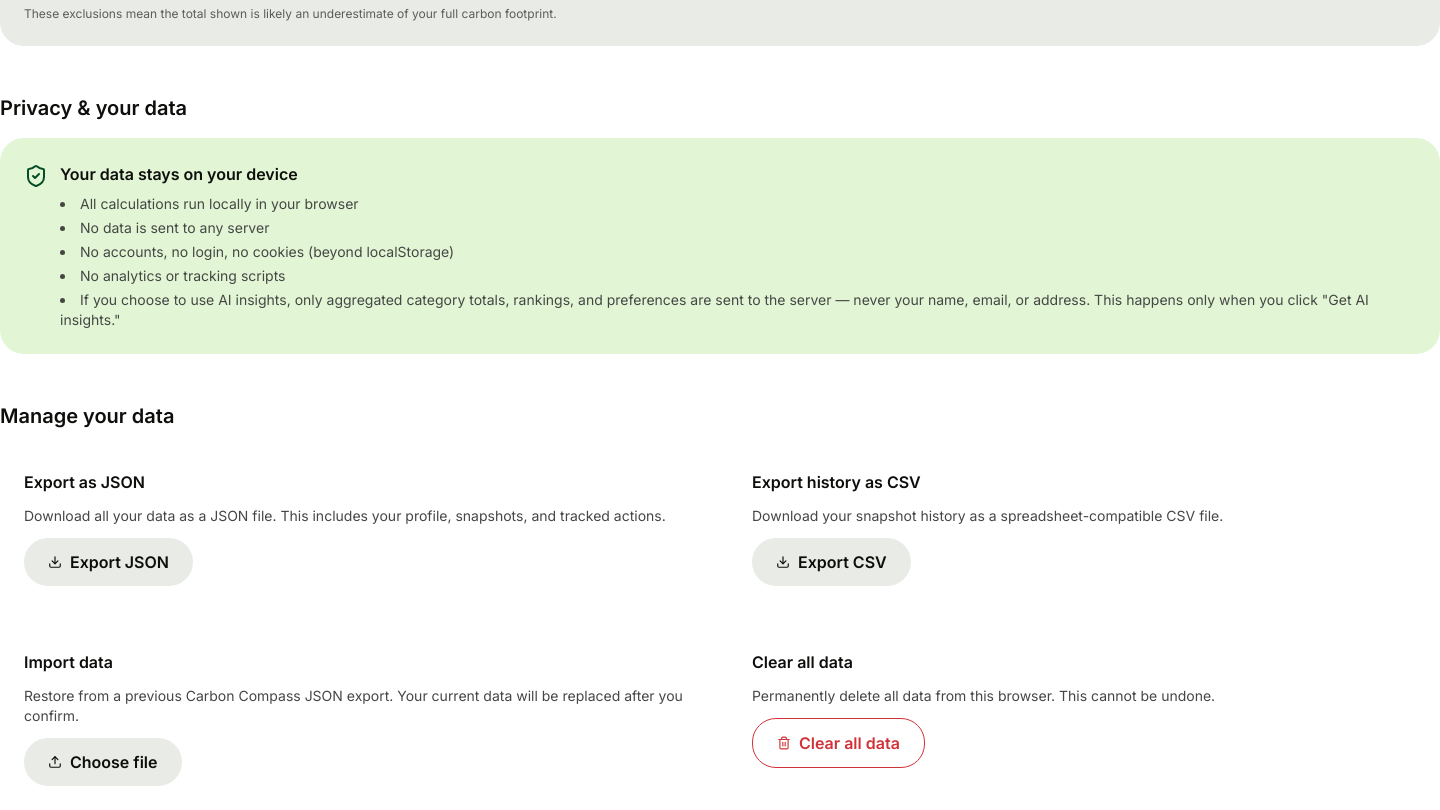
Test: MethodologyPage — JSON import and clear-all › opens clear-all confirmation modal
(page scrolled)
What coordinates should you click on to do the following:
click the button "Clear all data"
I would click on:
 (838, 743)
Its box is top-left (752, 718), bottom-right (925, 768).
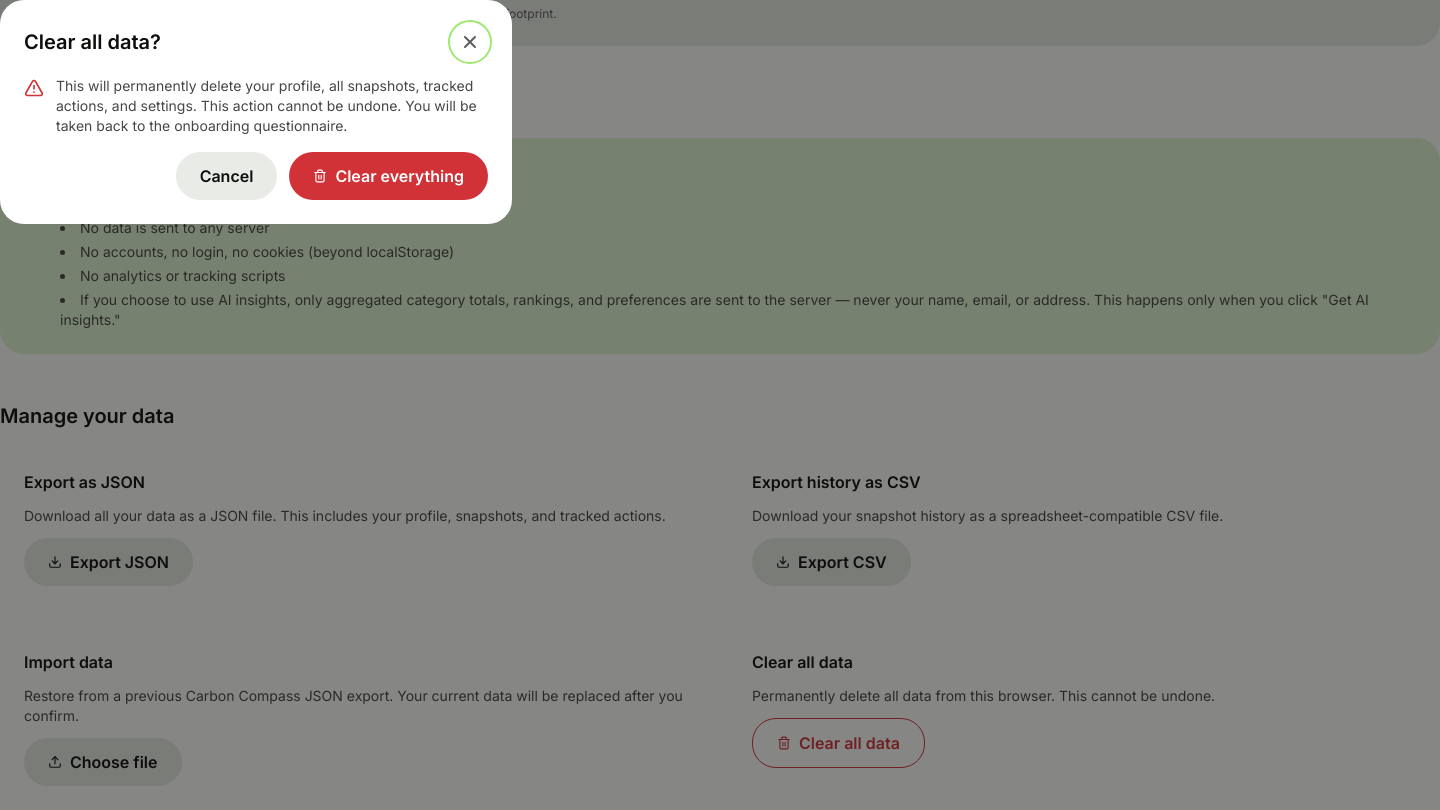
Now the heading "Clear all data?" is shown, box top-left (24, 28), bottom-right (161, 56)
Now the dialog is shown, box top-left (0, 0), bottom-right (512, 224)
